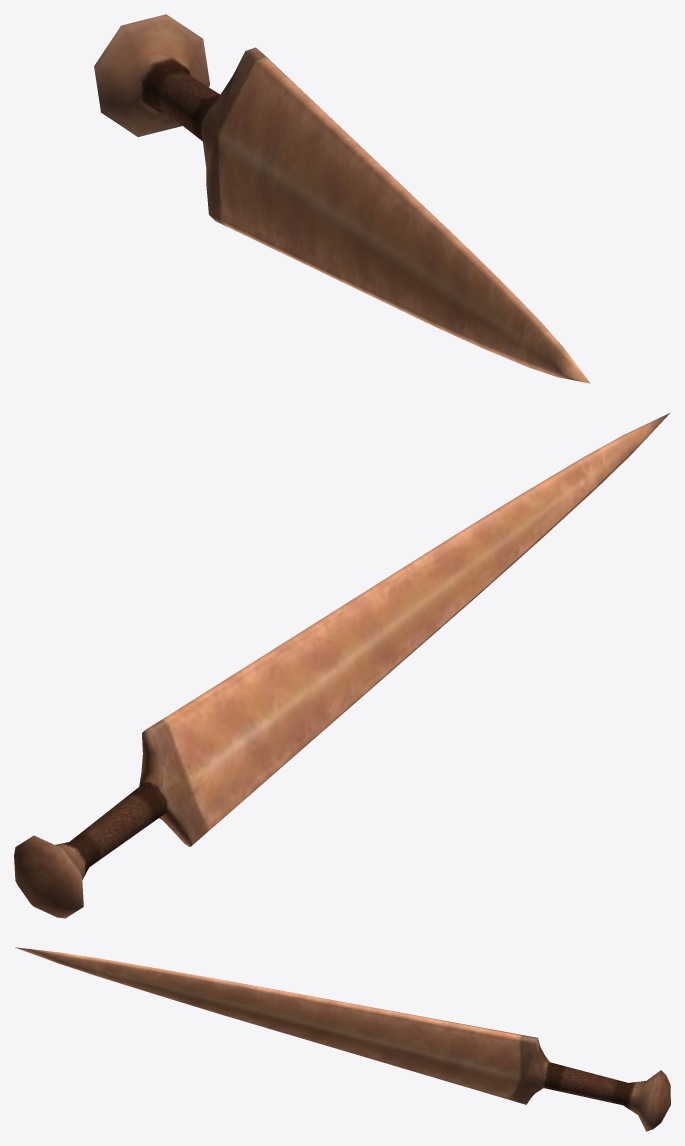
File: rider-weapon-slice-bronzeweapons.glb
3 renders of one model, top to bottom at view 1: azimuth 30°, elevation 25°; view 2: azimuth 150°, elevation 25°; view 3: azimuth 270°, elevation 25°, orthographic. The views are drawn at different scales.
Bounding box in the file's own units: 0.233 × 0.233 × 1.05.
Materials: 1 (1 with a texture image).
